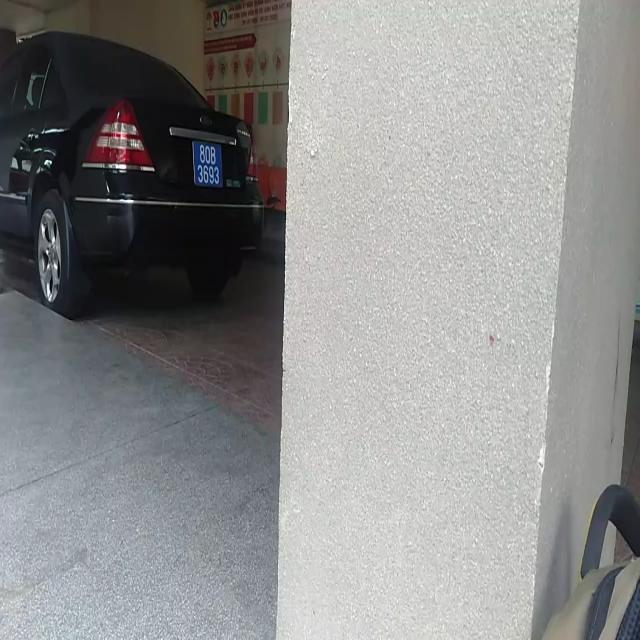bien_xanh: (192, 138, 226, 193)
